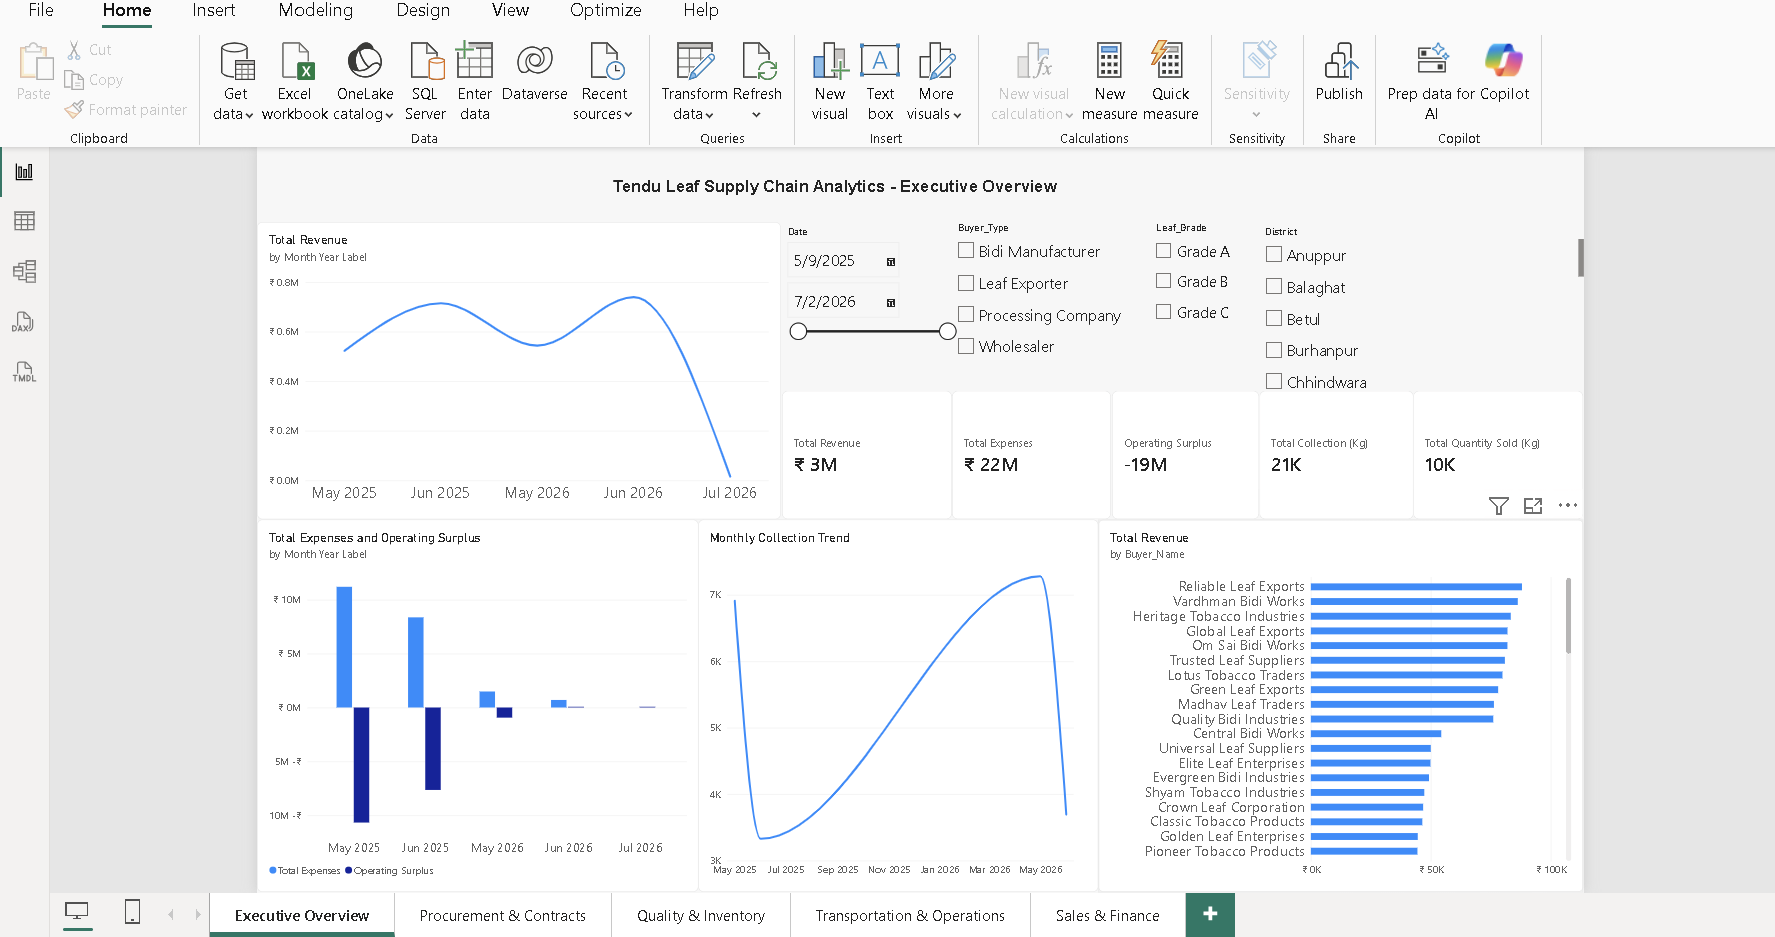

The dashboard page shown, as its layout file describes it:
{"tool":"powerbi","page":{"name":"Executive Overview","canvas":[1920,1080],"ordinal":0},"visuals":[{"type":"cardVisual","fields":{"Data":["Sales.Total Revenue"]},"box":[760.5,353.5,246.5,186],"z":0},{"type":"cardVisual","fields":{"Data":["Expenses.Total Expenses"]},"box":[1007,353.5,230.2,186],"z":1000},{"type":"cardVisual","fields":{"Data":["Expenses.Operating Surplus"]},"box":[1237.2,353.5,214,186],"z":2000},{"type":"cardVisual","fields":{"Data":["Collection.Total Collection"]},"box":[1451.2,353.5,223.3,186],"z":3000},{"type":"cardVisual","fields":{"Data":["Sales.Total Quantity Sold"]},"box":[1674.4,353.5,246.5,186],"z":4000},{"type":"textbox","box":[516.6,43.2,776,41.2],"z":5000},{"type":"lineChart","fields":{"Y":["Sales.Total Revenue"],"Category":["Sales.Month Year Label"]},"box":[0,109.3,758.1,430.2],"z":6000},{"type":"clusteredColumnChart","fields":{"Y":["Expenses.Total Expenses","Expenses.Operating Surplus"],"Category":["DateTable.Month Year Label"]},"box":[0,539.5,639.5,539.5],"z":7000},{"type":"lineChart","title":"Monthly Collection Trend","fields":{"Y":["Collection.Total Collection"],"Category":["Collection.Collection Month Year"]},"box":[639.5,539.5,579.1,539.5],"z":8000},{"type":"clusteredBarChart","fields":{"Y":["Sales.Total Revenue"],"Category":["Buyers.Buyer_Name"]},"box":[1218.6,539.5,702.3,539.5],"z":9000},{"type":"slicer","fields":{"Values":["Forests.District"]},"box":[1451.2,114,469.8,239.5],"z":10000},{"type":"slicer","fields":{"Values":["Quality_Inspection.Leaf_Grade"]},"box":[1293,109.3,179.1,244.2],"z":11000},{"type":"slicer","fields":{"Values":["Buyers.Buyer_Type"]},"box":[1007,109.3,297.7,244.2],"z":12000},{"type":"slicer","fields":{"Values":["DateTable.Date"]},"box":[760.5,114,255.8,239.5],"z":13000}]}

Visuals, with their boxes on the page's 1920x1080 design canvas (x1, y1, x2, y2). These are canvas units, not pixel positions in the 1775x937 screenshot, which may show the page scaled, cropped or inside an application window:
cardVisual - Sales.Total Revenue: x1=760, y1=354, x2=1007, y2=540
cardVisual - Expenses.Total Expenses: x1=1007, y1=354, x2=1237, y2=540
cardVisual - Expenses.Operating Surplus: x1=1237, y1=354, x2=1451, y2=540
cardVisual - Collection.Total Collection: x1=1451, y1=354, x2=1674, y2=540
cardVisual - Sales.Total Quantity Sold: x1=1674, y1=354, x2=1921, y2=540
textbox: x1=517, y1=43, x2=1293, y2=84
lineChart - Sales.Total Revenue x Sales.Month Year Label: x1=0, y1=109, x2=758, y2=540
clusteredColumnChart - Expenses.Total Expenses x Expenses.Operating Surplus: x1=0, y1=540, x2=640, y2=1079
"Monthly Collection Trend" lineChart: x1=640, y1=540, x2=1219, y2=1079
clusteredBarChart - Sales.Total Revenue x Buyers.Buyer_Name: x1=1219, y1=540, x2=1921, y2=1079
slicer - Forests.District: x1=1451, y1=114, x2=1921, y2=354
slicer - Quality_Inspection.Leaf_Grade: x1=1293, y1=109, x2=1472, y2=354
slicer - Buyers.Buyer_Type: x1=1007, y1=109, x2=1305, y2=354
slicer - DateTable.Date: x1=760, y1=114, x2=1016, y2=354
